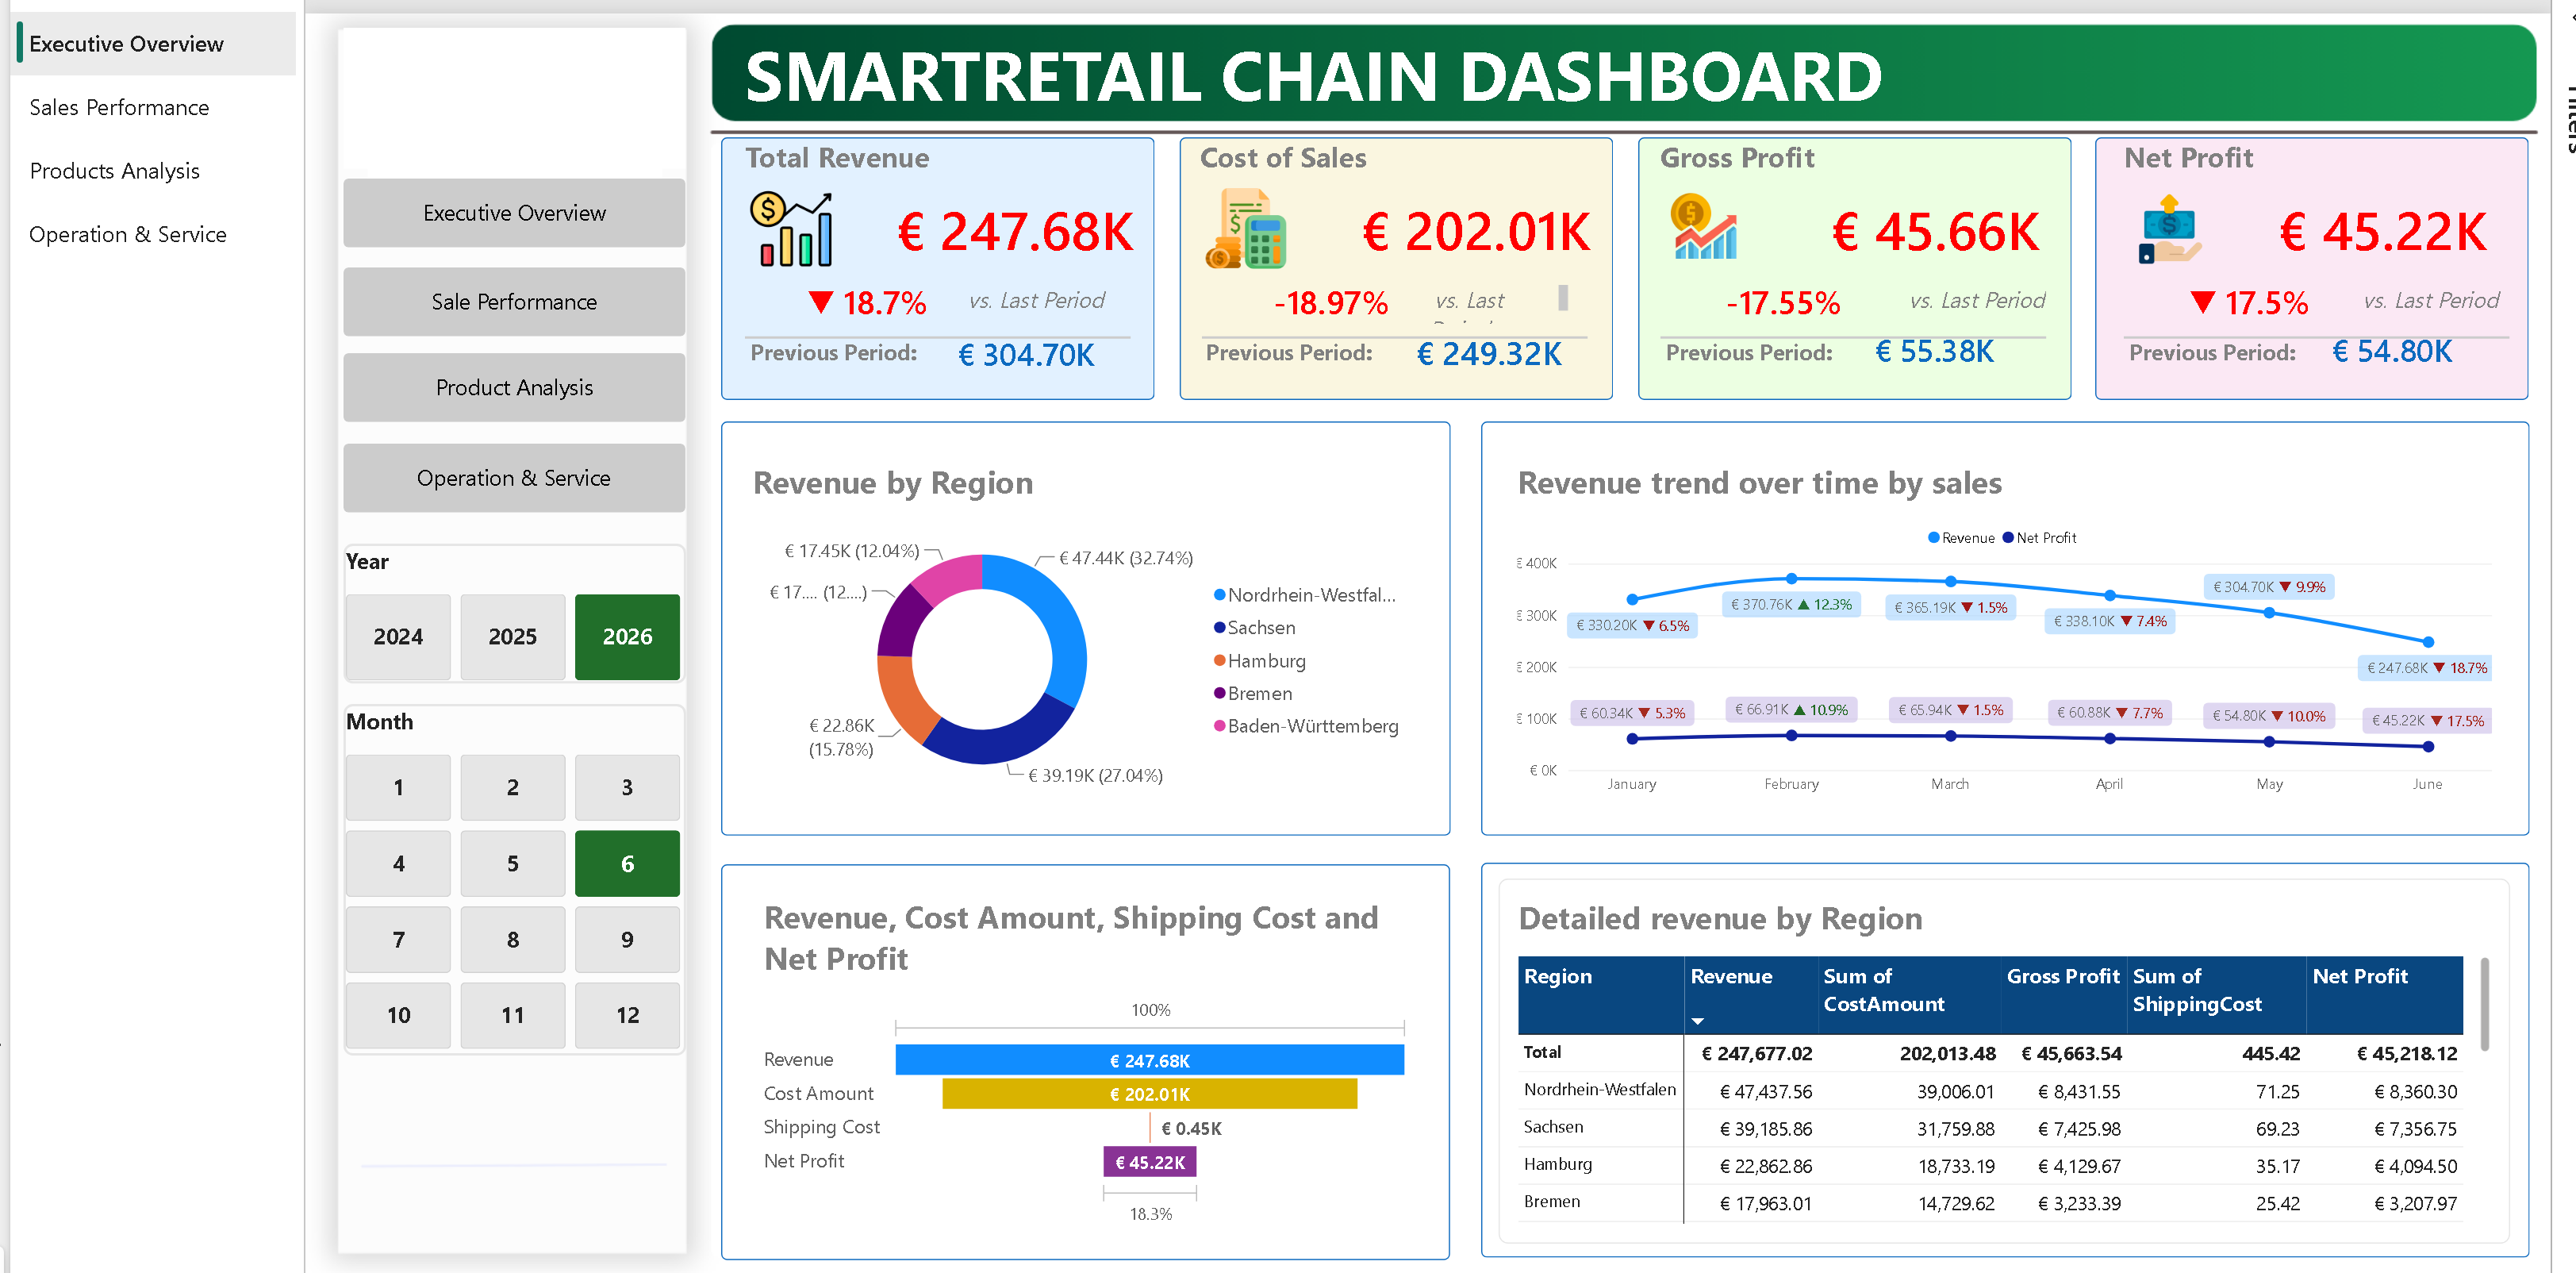

The dashboard page shown, as its layout file describes it:
{"tool":"powerbi","page":{"name":"Executive Overview","canvas":[1920,1080],"ordinal":0},"visuals":[{"type":"shape","box":[355.7,105.5,370.7,224.6],"z":0},{"type":"shape","box":[747.5,105.5,370.7,224.6],"z":1000},{"type":"shape","box":[1139.3,105.5,370.7,224.6],"z":2000},{"type":"shape","box":[1531.2,105.5,370.7,224.6],"z":3000},{"type":"textbox","box":[375.3,12.1,1080.6,78.4],"z":4000},{"type":"textbox","box":[375.3,105.5,226.1,43.7],"z":5000},{"type":"textbox","box":[765.6,105.5,194.4,43.7],"z":6000},{"type":"textbox","box":[1158.9,105.5,254.7,54.3],"z":7000},{"type":"textbox","box":[1555.3,105.5,265.2,54.3],"z":8000},{"type":"image","box":[375.3,149.2,78.4,69.3],"z":9000},{"type":"image","box":[765.6,149.2,78,69],"z":10000},{"type":"image","box":[1158.9,149.2,78,69],"z":11000},{"type":"image","box":[1555.3,149.2,78,69],"z":12000},{"type":"shape","box":[375.3,262.2,330,30.1],"z":13000},{"type":"shape","box":[767.1,262.2,330,30.1],"z":14000},{"type":"shape","box":[1158.9,262.2,330,30.1],"z":15000},{"type":"shape","box":[1555.3,262.2,330,30.1],"z":16000},{"type":"cardVisual","fields":{"Data":["Fact_Sales.Revenue"]},"box":[488.3,149.2,238.1,69.3],"z":17000},{"type":"textbox","box":[375.3,277.3,165.8,34.7],"z":18000},{"type":"textbox","box":[765.6,277.3,167.3,34.7],"z":19000},{"type":"textbox","box":[1158.9,277.3,179.3,34.7],"z":20000},{"type":"textbox","box":[1555.3,277.3,161.3,34.7],"z":21000},{"type":"advancedSlicerVisual","title":"Month ","fields":{"Values":["DimDate.Month Number"]},"box":[33,590.2,292.9,300.6],"z":22000},{"type":"advancedSlicerVisual","fields":{"Values":["DimDate.Year"]},"box":[33,453.1,292.9,119.6],"z":23000},{"type":"cardVisual","fields":{"Data":["Fact_Sales.Previous Period Revenue"]},"box":[541,265.2,164.3,51.2],"z":24000},{"type":"cardVisual","fields":{"Data":["Fact_Sales.% Revenue Variance vs. Pre Period"]},"box":[412.9,200.4,149.2,90.4],"z":25000},{"type":"textbox","box":[562.1,232.1,164.3,33.2],"z":26000},{"type":"cardVisual","fields":{"Data":["Fact_Sales.Cost of Sales"]},"box":[886.2,149.2,232.1,69.3],"z":27000},{"type":"cardVisual","fields":{"Data":["Fact_Sales.Previous Cost of Sales"]},"box":[932.9,265.2,164.3,49.7],"z":28000},{"type":"textbox","box":[960,232.1,119.1,33.2],"z":29000},{"type":"cardVisual","fields":{"Data":["Fact_Sales.% Cost Variance vs. Pre Period"]},"box":[810.8,200.4,149.2,90.4],"z":30000},{"type":"textbox","box":[1754.2,232.1,131.1,33.2],"z":31000},{"type":"textbox","box":[1366.9,232.1,122.1,30.1],"z":32000},{"type":"cardVisual","fields":{"Data":["Fact_Sales.Gross Profit"]},"box":[1287,149.2,223,69.3],"z":33000},{"type":"cardVisual","fields":{"Data":["Fact_Sales.Previous Period Gross Profit Value"]},"box":[1326.2,262.2,145.8,50.3],"z":34000},{"type":"cardVisual","fields":{"Data":["Fact_Sales.% Gross Profit Variance vs. Pre Period"]},"box":[1198.1,200.4,149.2,90.4],"z":35000},{"type":"cardVisual","fields":{"Data":["Fact_Sales.Net Profit"]},"box":[1669.8,149.2,232.1,69.3],"z":36000},{"type":"cardVisual","fields":{"Data":["Fact_Sales.Previous Net Profit"]},"box":[1716.5,262.2,145.8,50.3],"z":37000},{"type":"cardVisual","fields":{"Data":["Fact_Sales.% Net Profit Variance vs. Pre Period"]},"box":[1594.5,200.4,149.2,90.4],"z":38000},{"type":"shape","box":[355.7,348.1,623.9,354.2],"z":39000},{"type":"donutChart","title":"Revenue by Region","fields":{"Category":["Dim_Customers.Region"],"Y":["Fact_Sales.Revenue"]},"box":[366.2,367.7,593.8,319.5],"z":40000},{"type":"shape","box":[1005.2,348.1,896.7,354.2],"z":41000},{"type":"lineChart","title":"Revenue trend over time by sales","fields":{"Category":["DimDate.Month Name"],"Y":["Fact_Sales.Revenue","Fact_Sales.Net Profit"]},"box":[1020,367.1,865.7,320],"z":42000},{"type":"shape","box":[355,726.7,623.3,338.3],"z":43000},{"type":"funnel","fields":{"Y":["Fact_Sales.Revenue","Sum(Fact_Sales.CostAmount)","Sum(Fact_Sales.ShippingCost)","Fact_Sales.Net Profit"]},"box":[375.7,740,585,311.7],"z":44000},{"type":"shape","box":[1005.2,726.4,896.7,337.6],"z":45000},{"type":"pivotTable","title":"Detailed revenue by Region","fields":{"Rows":["Dim_Customers.Region"],"Values":["Fact_Sales.Revenue","Sum(Fact_Sales.CostAmount)","Fact_Sales.Gross Profit","Sum(Fact_Sales.ShippingCost)","Fact_Sales.Net Profit"]},"box":[1020.3,740,865.1,312],"z":46000},{"type":"actionButton","box":[33.2,141.7,292.4,58.8],"z":47000},{"type":"actionButton","box":[33.2,217,292.4,58.8],"z":48000},{"type":"actionButton","box":[33.2,290.9,292.4,58.8],"z":49000},{"type":"actionButton","box":[33.2,367.7,292.4,58.8],"z":50000},{"type":"textbox","box":[33.2,12.1,292.4,120.6],"z":51000}]}

Visuals, with their boxes on the page's 1920x1080 design canvas (x1, y1, x2, y2). These are canvas units, not pixel positions in the 2576x1273 screenshot, which may show the page scaled, cropped or inside an application window:
shape: x1=356, y1=106, x2=726, y2=330
shape: x1=748, y1=106, x2=1118, y2=330
shape: x1=1139, y1=106, x2=1510, y2=330
shape: x1=1531, y1=106, x2=1902, y2=330
textbox: x1=375, y1=12, x2=1456, y2=90
textbox: x1=375, y1=106, x2=601, y2=149
textbox: x1=766, y1=106, x2=960, y2=149
textbox: x1=1159, y1=106, x2=1414, y2=160
textbox: x1=1555, y1=106, x2=1820, y2=160
image: x1=375, y1=149, x2=454, y2=218
image: x1=766, y1=149, x2=844, y2=218
image: x1=1159, y1=149, x2=1237, y2=218
image: x1=1555, y1=149, x2=1633, y2=218
shape: x1=375, y1=262, x2=705, y2=292
shape: x1=767, y1=262, x2=1097, y2=292
shape: x1=1159, y1=262, x2=1489, y2=292
shape: x1=1555, y1=262, x2=1885, y2=292
cardVisual - Fact_Sales.Revenue: x1=488, y1=149, x2=726, y2=218
textbox: x1=375, y1=277, x2=541, y2=312
textbox: x1=766, y1=277, x2=933, y2=312
textbox: x1=1159, y1=277, x2=1338, y2=312
textbox: x1=1555, y1=277, x2=1717, y2=312
"Month " advancedSlicerVisual: x1=33, y1=590, x2=326, y2=891
advancedSlicerVisual - DimDate.Year: x1=33, y1=453, x2=326, y2=573
cardVisual - Fact_Sales.Previous Period Revenue: x1=541, y1=265, x2=705, y2=316
cardVisual - Fact_Sales.% Revenue Variance vs. Pre Period: x1=413, y1=200, x2=562, y2=291
textbox: x1=562, y1=232, x2=726, y2=265
cardVisual - Fact_Sales.Cost of Sales: x1=886, y1=149, x2=1118, y2=218
cardVisual - Fact_Sales.Previous Cost of Sales: x1=933, y1=265, x2=1097, y2=315
textbox: x1=960, y1=232, x2=1079, y2=265
cardVisual - Fact_Sales.% Cost Variance vs. Pre Period: x1=811, y1=200, x2=960, y2=291
textbox: x1=1754, y1=232, x2=1885, y2=265
textbox: x1=1367, y1=232, x2=1489, y2=262
cardVisual - Fact_Sales.Gross Profit: x1=1287, y1=149, x2=1510, y2=218
cardVisual - Fact_Sales.Previous Period Gross Profit Value: x1=1326, y1=262, x2=1472, y2=312
cardVisual - Fact_Sales.% Gross Profit Variance vs. Pre Period: x1=1198, y1=200, x2=1347, y2=291
cardVisual - Fact_Sales.Net Profit: x1=1670, y1=149, x2=1902, y2=218
cardVisual - Fact_Sales.Previous Net Profit: x1=1716, y1=262, x2=1862, y2=312
cardVisual - Fact_Sales.% Net Profit Variance vs. Pre Period: x1=1594, y1=200, x2=1744, y2=291
shape: x1=356, y1=348, x2=980, y2=702
"Revenue by Region" donutChart: x1=366, y1=368, x2=960, y2=687
shape: x1=1005, y1=348, x2=1902, y2=702
"Revenue trend over time by sales" lineChart: x1=1020, y1=367, x2=1886, y2=687
shape: x1=355, y1=727, x2=978, y2=1065
funnel - Fact_Sales.Revenue x Sum(Fact_Sales.CostAmount): x1=376, y1=740, x2=961, y2=1052
shape: x1=1005, y1=726, x2=1902, y2=1064
"Detailed revenue by Region" pivotTable: x1=1020, y1=740, x2=1885, y2=1052
actionButton: x1=33, y1=142, x2=326, y2=200
actionButton: x1=33, y1=217, x2=326, y2=276
actionButton: x1=33, y1=291, x2=326, y2=350
actionButton: x1=33, y1=368, x2=326, y2=426
textbox: x1=33, y1=12, x2=326, y2=133
